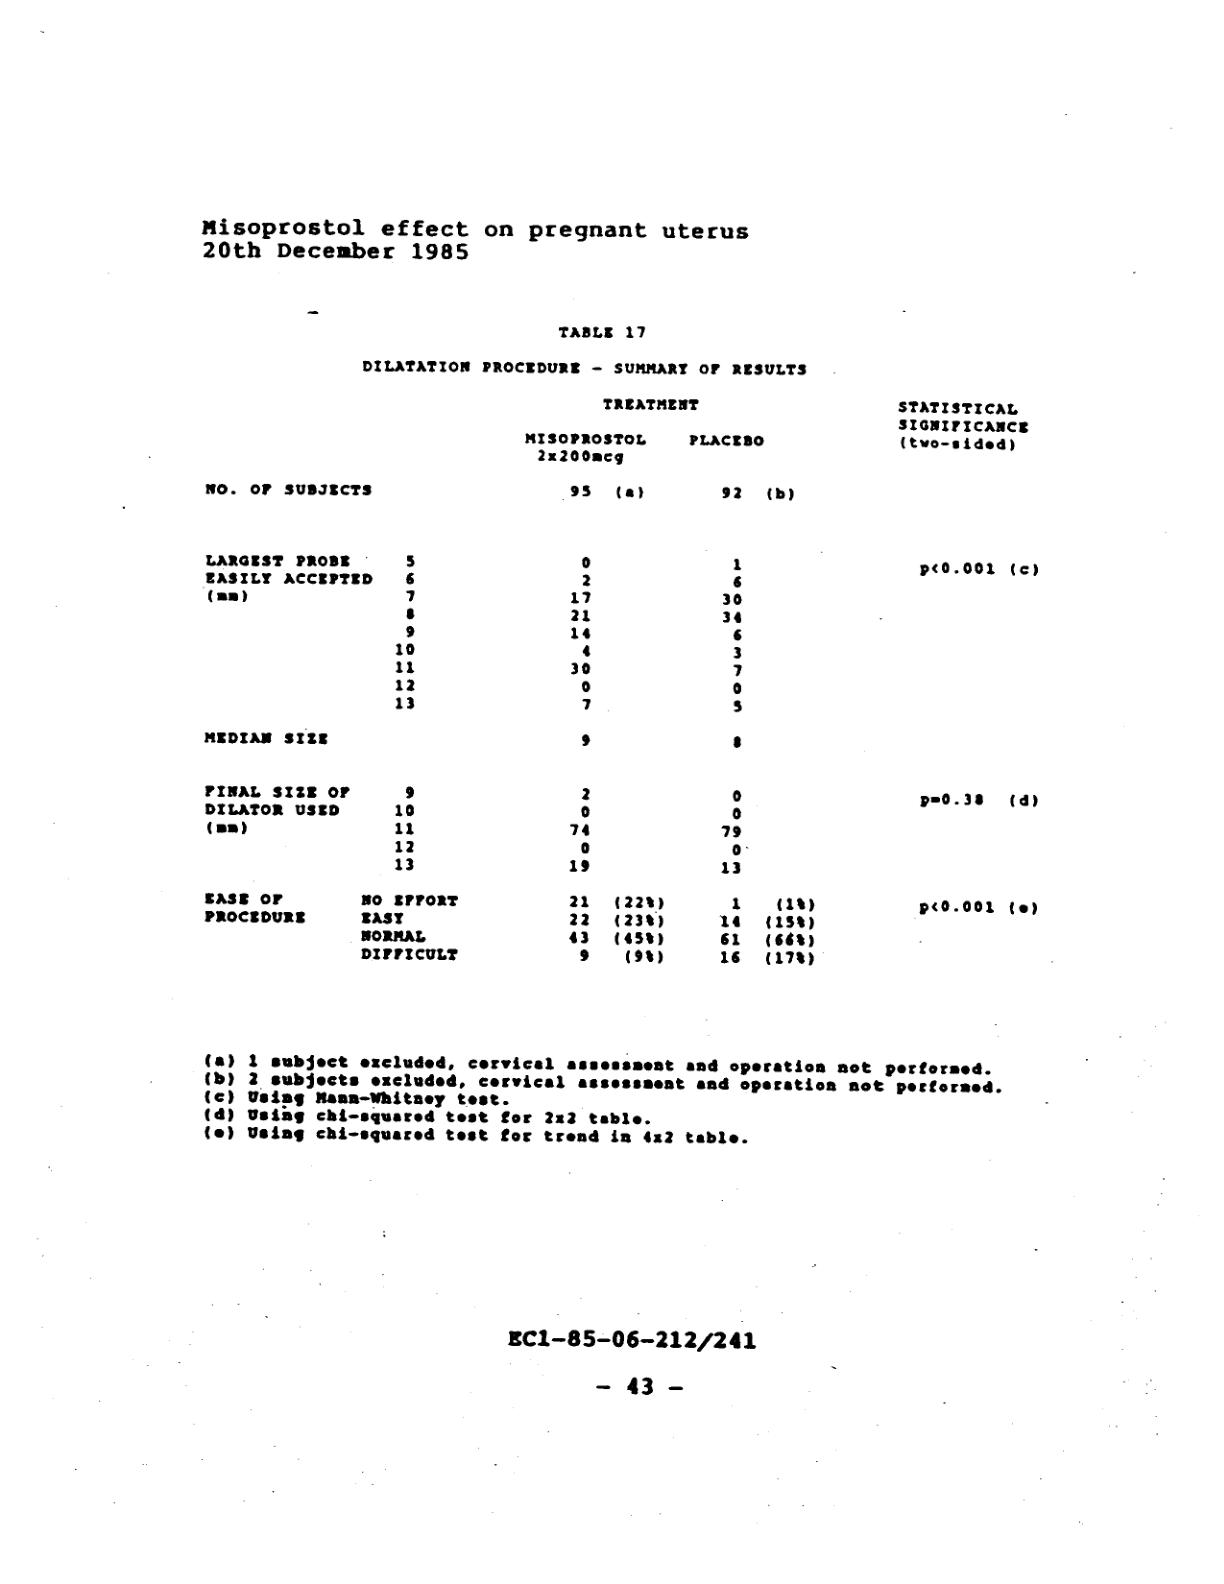nolines: (203, 396, 1041, 966)
